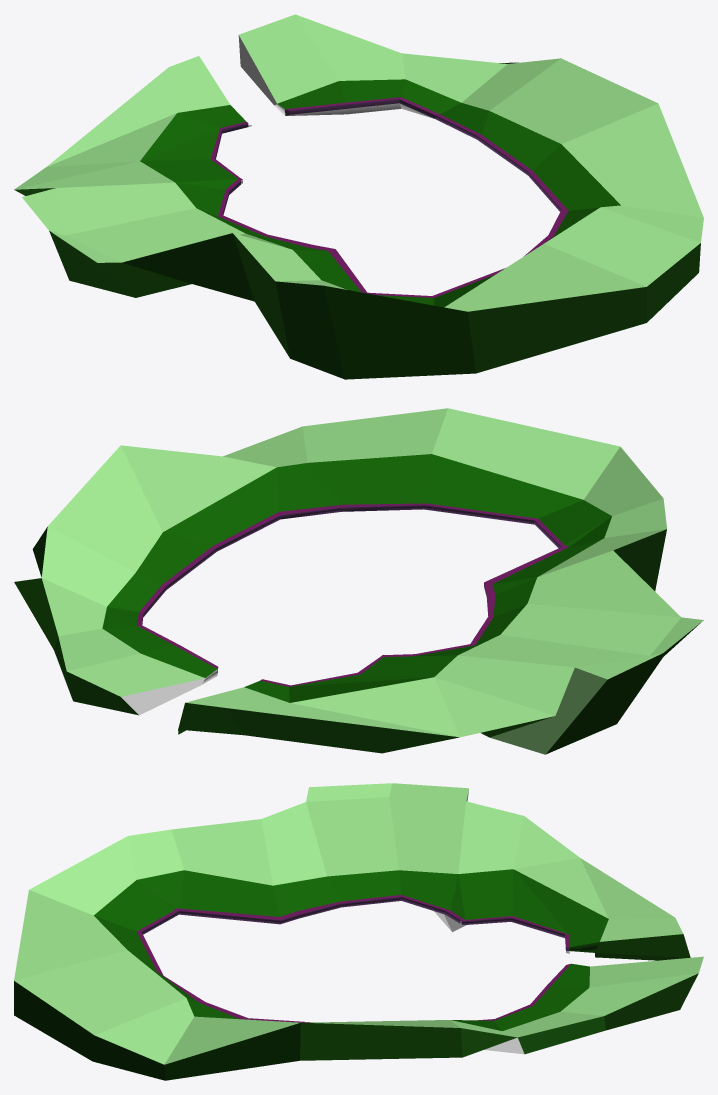
Rendered from terraina.fbx.
The picture shows the model from 3 angles, top to bottom: view 1: azimuth 30°, elevation 25°; view 2: azimuth 150°, elevation 25°; view 3: azimuth 270°, elevation 25°; orthographic projection. The views are drawn at different scales.
Visible parts, largest first — view 1: Cube; view 2: Cube; view 3: Cube.
Part boxes in pixels (bbox=[...]): Cube: bbox=[14, 14, 703, 379]; Cube: bbox=[14, 408, 703, 754]; Cube: bbox=[14, 783, 703, 1080].
Bounding box in the file's own units: 12408 × 2462 × 13736.
